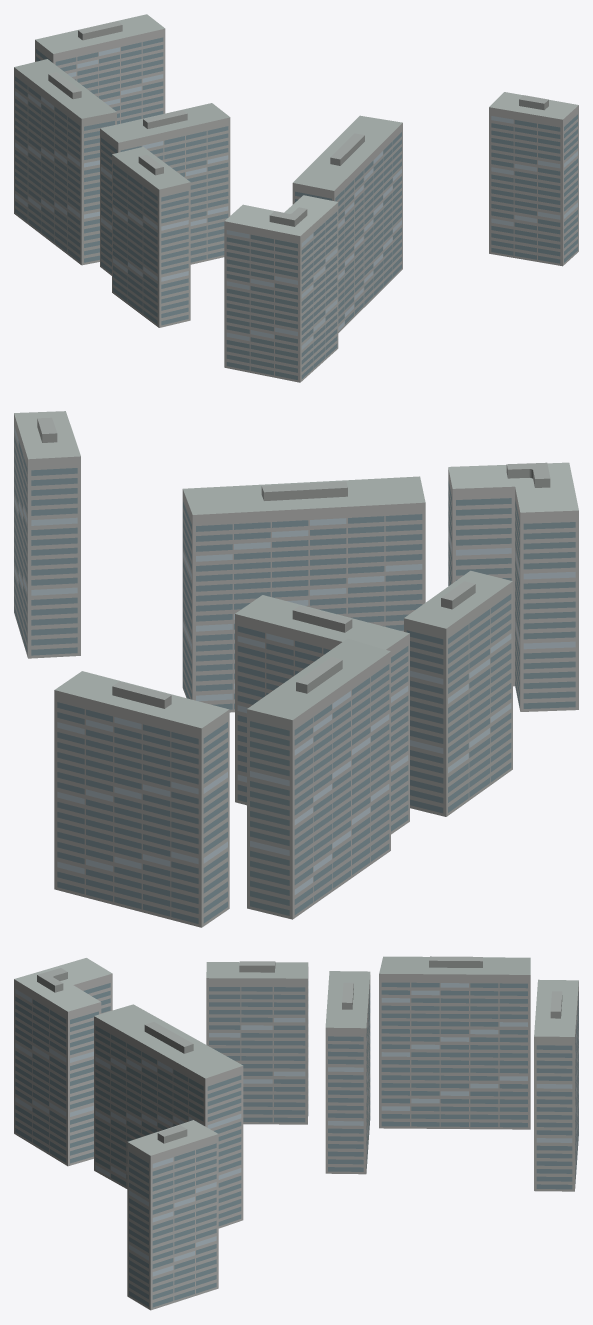
The model's file is apt-a15101702.glb.
3 renders of one model, top to bottom at view 1: azimuth 30°, elevation 25°; view 2: azimuth 150°, elevation 25°; view 3: azimuth 270°, elevation 25°, orthographic. The views are drawn at different scales.
Visible parts, largest first — view 1: apt-a15101702; view 2: apt-a15101702; view 3: apt-a15101702.
Part boxes in pixels (left/top/right/bottom): apt-a15101702: left=14, top=14, right=578, bottom=382; apt-a15101702: left=14, top=411, right=578, bottom=927; apt-a15101702: left=14, top=956, right=578, bottom=1310.
Size of the model in its own units: 151 by 56 by 177.
